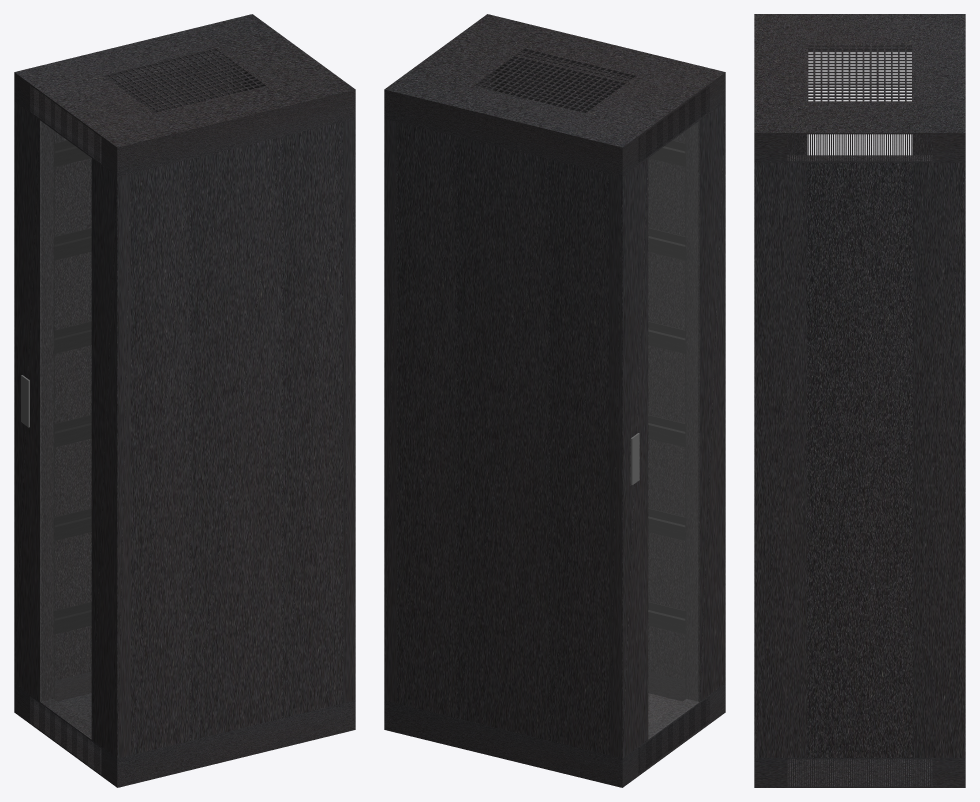
File: szafa_rack_19_42u.fbx
The picture shows the model from 3 angles, left to right: view 1: azimuth 30°, elevation 25°; view 2: azimuth 150°, elevation 25°; view 3: azimuth 270°, elevation 25°; orthographic projection. The views are drawn at different scales.
Parts seen in each view (by area): view 1: sciana_prawa_srodek001, sciana_prawa2, sciana_prawa, gora, szklany_front, drzwi002, drzwi001, sciana_lewa1, dol, plecy2, poprzeczka_pinowa002, sciana_lewa_srodek (+1 smaller); view 2: sciana_lewa_srodek, sciana_lewa2, sciana_lewa1, gora, szklany_front, drzwi002, drzwi001, sciana_prawa, dol, plecy, poprzeczka_pinowa, sciana_prawa_srodek001 (+1 smaller); view 3: plecy1, plecy, plecy2, gora, dol, szklany_front, drzwi001.
Part boxes in pixels (x1,y1,x2,y2): sciana_prawa_srodek001: (190,136,282,740); sciana_prawa2: (282,122,342,718); sciana_prawa: (131,159,190,755); gora: (14,14,355,176); szklany_front: (40,121,91,738); drzwi002: (91,158,130,758); drzwi001: (14,101,53,701); sciana_lewa1: (54,131,91,680); dol: (14,672,355,787); plecy2: (342,119,355,703); poprzeczka_pinowa002: (53,131,54,699); sciana_lewa_srodek: (116,67,187,112); sciana_lewa_srodek: (457,136,549,740); sciana_lewa2: (397,122,457,718); sciana_lewa1: (549,159,608,755); gora: (384,14,725,176); szklany_front: (648,121,699,738); drzwi002: (686,101,725,701); drzwi001: (609,158,648,758); sciana_prawa: (648,131,685,680); dol: (384,672,725,787); plecy: (384,119,397,703); poprzeczka_pinowa: (685,131,686,699); sciana_prawa_srodek001: (552,67,623,112); plecy1: (807,163,912,757); plecy: (912,163,965,757); plecy2: (754,163,807,757); gora: (754,14,965,162); dol: (754,758,965,787); szklany_front: (808,52,911,154); drzwi001: (912,134,932,155).
Bounding box in the file's own units: 31.69 × 81.89 × 23.62.
Materials: 4 (2 with a texture image).
